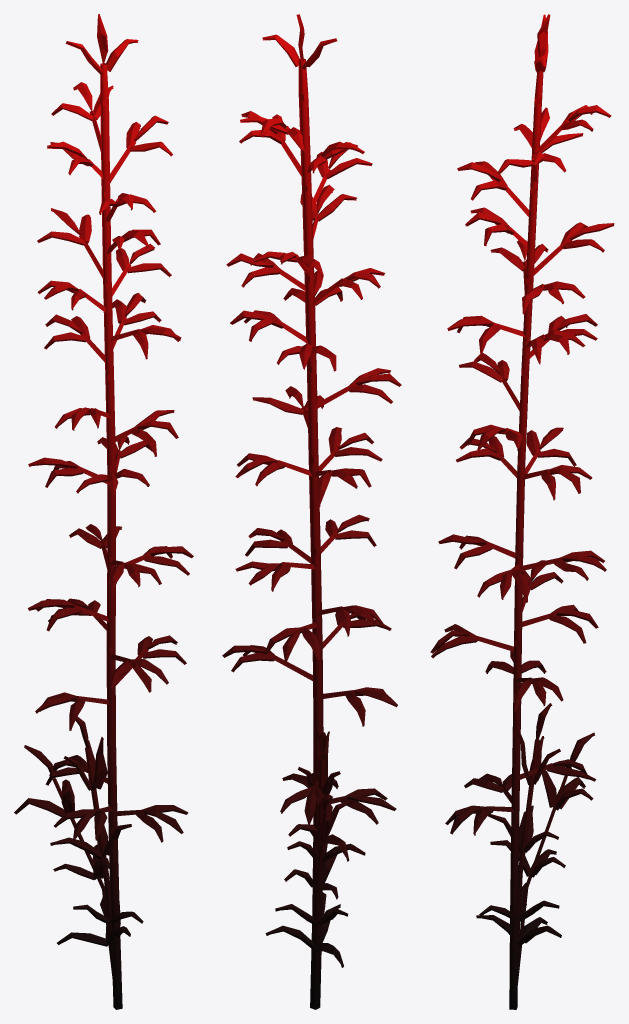
File: TreeBamboo08.fbx
3 renders of one model, left to right at view 1: azimuth 30°, elevation 25°; view 2: azimuth 150°, elevation 25°; view 3: azimuth 270°, elevation 25°, orthographic. The views are drawn at different scales.
Visible parts, largest first — view 1: TreeBamboo08_LOD0; view 2: TreeBamboo08_LOD0; view 3: TreeBamboo08_LOD0.
Part boxes in pixels (box(x1,y1,x2,y2)): TreeBamboo08_LOD0: box(14, 14, 193, 1009); TreeBamboo08_LOD0: box(222, 14, 401, 1009); TreeBamboo08_LOD0: box(430, 14, 614, 1009).
Size of what is drawn, in the model's own units: 114 by 683 by 115.
